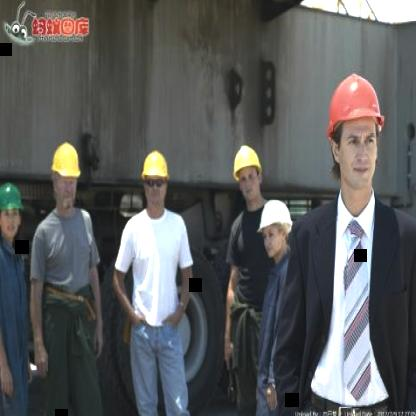helmet: (320, 59, 388, 207), (47, 130, 86, 221), (137, 138, 175, 218), (229, 138, 267, 210), (258, 198, 294, 262), (0, 178, 28, 244)
